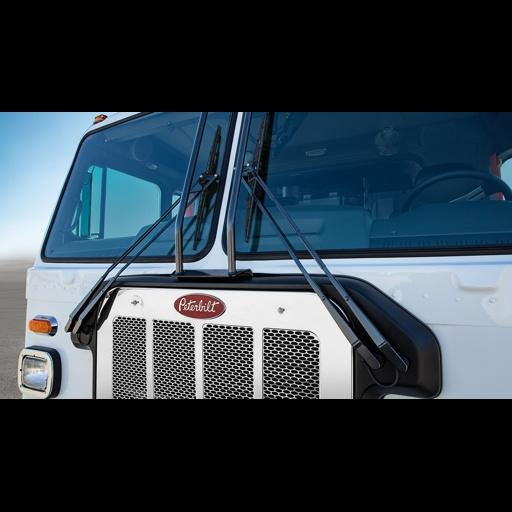truck: (16, 114, 512, 403)
